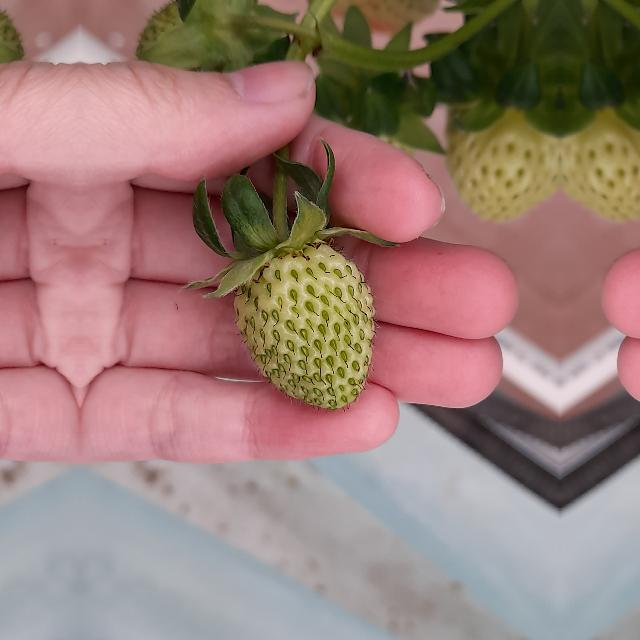Health_25: (233, 244, 375, 410)
